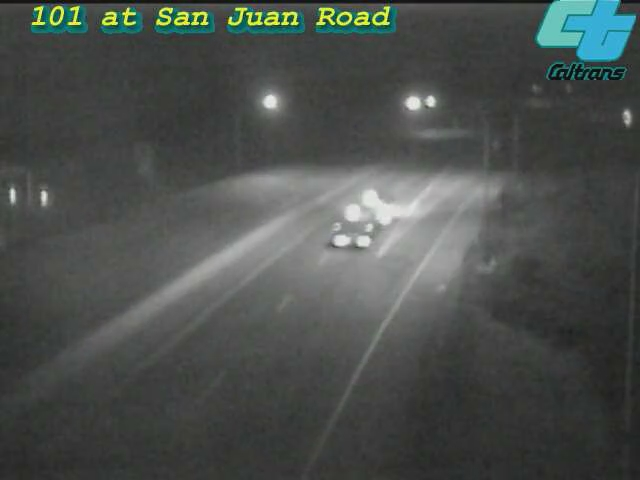vehicle: (325, 175, 405, 255)
